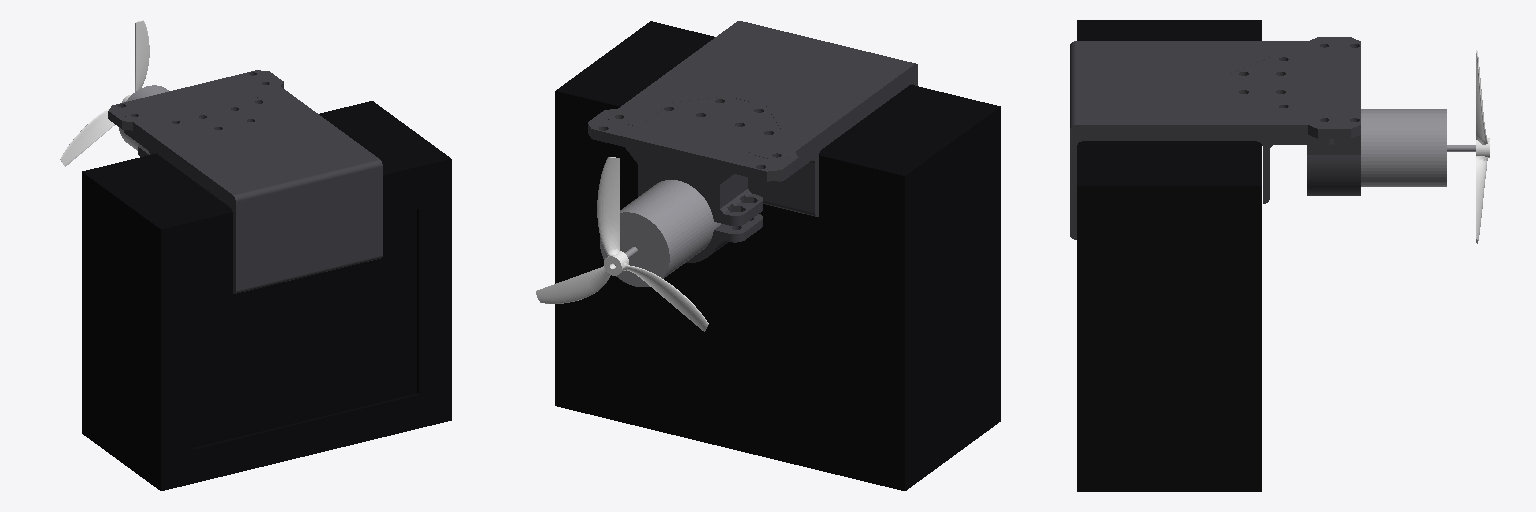
URDF robot description (fan_dcmotor_articulated):
<?xml version="1.0"?>
<!-- Complete DIY bench fan: the SPS-3010 PSU base, the mount + RS-555 motor
     chassis clipped on top (from fan_dcmotor_proxy.urdf), plus the printed
     3-blade propeller on a continuous spin joint about the motor shaft. -->
<robot name="fan_dcmotor_articulated">
  <link name="psu_link">
    <inertial>
      <origin xyz="0.035 0.001368 -0.060114" rpy="0 0 0"/>
      <mass value="1.1"/>
      <inertia ixx="3.5e-03" ixy="0" ixz="0" iyy="1.3e-03" iyz="0" izz="3.0e-03"/>
    </inertial>
    <visual name="psu_visual">
      <origin xyz="0 0 0" rpy="0 0 0"/>
      <geometry>
        <mesh filename="fan_dcmotor_psu.stl" scale="0.001 0.001 0.001"/>
      </geometry>
      <material name="psu_cream">
        <color rgba="0.09 0.09 0.10 1.0"/>
      </material>
    </visual>
    <collision name="psu_collision">
      <origin xyz="0 0 0" rpy="0 0 0"/>
      <geometry>
        <mesh filename="fan_dcmotor_psu.stl" scale="0.001 0.001 0.001"/>
      </geometry>
    </collision>
  </link>

  <link name="mount_link">
    <inertial>
      <origin xyz="0.030 0.020 0.0" rpy="0 0 0"/>
      <mass value="0.15"/>
      <inertia ixx="1.4e-04" ixy="0" ixz="0" iyy="1.0e-04" iyz="0" izz="1.8e-04"/>
    </inertial>
    <visual name="mount_visual">
      <origin xyz="0 0 0" rpy="0 0 0"/>
      <geometry>
        <mesh filename="fan_dcmotor_mount.stl" scale="0.001 0.001 0.001"/>
      </geometry>
      <material name="printed_grey">
        <color rgba="0.30 0.30 0.32 1.0"/>
      </material>
    </visual>
    <collision name="mount_collision">
      <origin xyz="0 0 0" rpy="0 0 0"/>
      <geometry>
        <mesh filename="fan_dcmotor_mount.stl" scale="0.001 0.001 0.001"/>
      </geometry>
    </collision>
  </link>

  <link name="motor_link">
    <inertial>
      <origin xyz="0 0 0.0285" rpy="0 0 0"/>
      <mass value="0.30"/>
      <inertia ixx="4.0e-05" ixy="0" ixz="0" iyy="4.0e-05" iyz="0" izz="1.2e-05"/>
    </inertial>
    <visual name="motor_visual">
      <origin xyz="0 0 0" rpy="0 0 0"/>
      <geometry>
        <mesh filename="fan_dcmotor_motor.stl" scale="0.001 0.001 0.001"/>
      </geometry>
      <material name="motor_silver">
        <color rgba="0.60 0.60 0.62 1.0"/>
      </material>
    </visual>
    <collision name="motor_collision">
      <origin xyz="0 0 0" rpy="0 0 0"/>
      <geometry>
        <mesh filename="fan_dcmotor_motor.stl" scale="0.001 0.001 0.001"/>
      </geometry>
    </collision>
  </link>

  <link name="propeller_link">
    <inertial>
      <origin xyz="0 0 0.003" rpy="0 0 0"/>
      <mass value="0.01"/>
      <inertia ixx="3.0e-06" ixy="0" ixz="0" iyy="3.0e-06" iyz="0" izz="6.0e-06"/>
    </inertial>
    <visual name="propeller_visual">
      <origin xyz="0 0 0" rpy="0 0 0"/>
      <geometry>
        <mesh filename="fan_dcmotor_propeller.stl" scale="0.001 0.001 0.001"/>
      </geometry>
      <material name="printed_white">
        <color rgba="0.92 0.92 0.92 1.0"/>
      </material>
    </visual>
    <collision name="propeller_collision">
      <origin xyz="0 0 0" rpy="0 0 0"/>
      <geometry>
        <mesh filename="fan_dcmotor_propeller.stl" scale="0.001 0.001 0.001"/>
      </geometry>
    </collision>
  </link>

  <joint name="bracket_clip" type="fixed">
    <parent link="psu_link"/>
    <child link="mount_link"/>
    <origin xyz="0 0 0" rpy="0 0 0"/>
  </joint>

  <joint name="motor_seat" type="fixed">
    <parent link="mount_link"/>
    <child link="motor_link"/>
    <origin xyz="0.034943186 0.0720 -0.005402590" rpy="-1.5707963267948966 0 0"/>
  </joint>

  <!-- The shaft enters the propeller hub by 3 mm along local +z. -->
  <joint name="fan_spin" type="continuous">
    <parent link="motor_link"/>
    <child link="propeller_link"/>
    <origin xyz="0 0 0.070" rpy="0 0 0"/>
    <axis xyz="0 0 1"/>
    <dynamics damping="0.00002"/>
  </joint>
</robot>

--- Facts derived from the render (not from the file) ---
Views: 3 orthographic renders of the robot side by side, from view 1: azimuth 30°, elevation 25°; view 2: azimuth 150°, elevation 25°; view 3: azimuth 270°, elevation 25°.
Model fan_dcmotor_articulated with 4 links and 3 joints (1 continuous, 2 fixed), rooted at psu_link, posed every joint at zero.
Links seen in each view (by area): view 1: psu_link, mount_link, propeller_link; view 2: psu_link, mount_link, motor_link, propeller_link; view 3: psu_link, mount_link, motor_link, propeller_link.
Link boxes in pixels (x1,y1,x2,y2): psu_link: [82, 101, 451, 490]; mount_link: [108, 70, 382, 293]; propeller_link: [60, 20, 149, 166]; psu_link: [555, 21, 1000, 490]; mount_link: [588, 21, 917, 262]; motor_link: [600, 180, 720, 286]; propeller_link: [536, 157, 708, 331]; psu_link: [1077, 20, 1261, 491]; mount_link: [1070, 37, 1360, 239]; motor_link: [1361, 109, 1475, 186]; propeller_link: [1476, 50, 1489, 243].
Bounding box of the posed robot: 0.18 × 0.1933 × 0.1825 m (x, y, z).
4 mesh visuals loaded from 4 distinct referenced files (4 binary STL).
